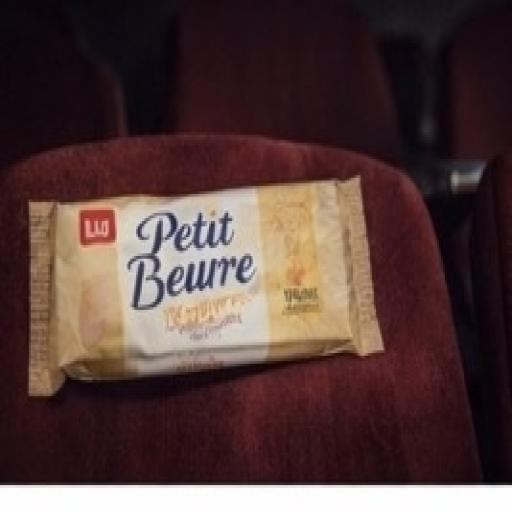petit-beurre: (19, 158, 421, 425)
